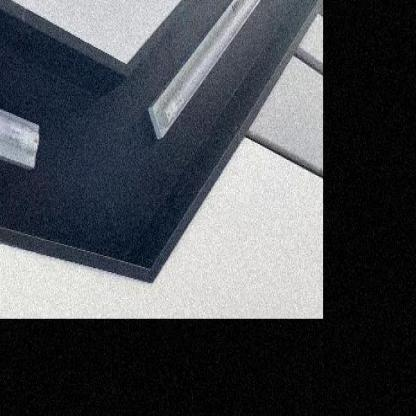light_off: (140, 0, 304, 150), (0, 18, 47, 195)
